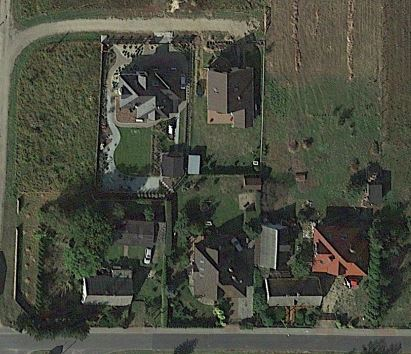family house: (115, 68, 185, 125), (191, 237, 251, 302), (307, 223, 373, 282), (202, 63, 258, 131), (81, 264, 136, 309), (262, 276, 328, 308), (254, 220, 295, 271), (104, 217, 158, 248)
